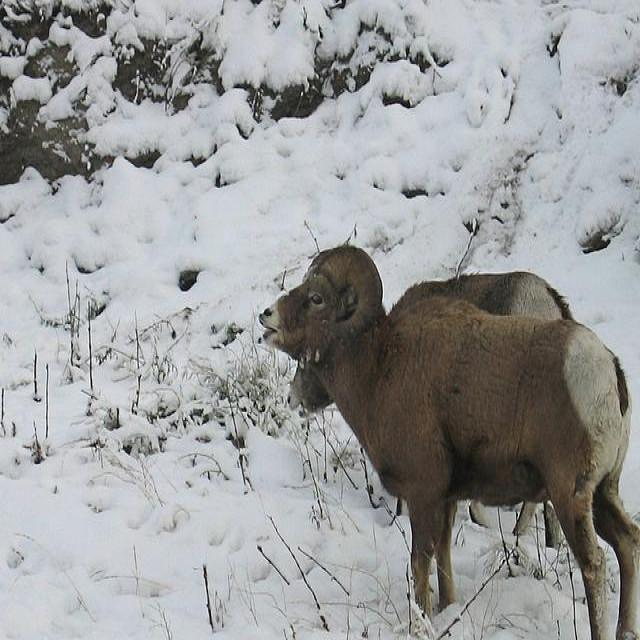Sheep: (261, 248, 639, 639), (286, 274, 575, 550)
